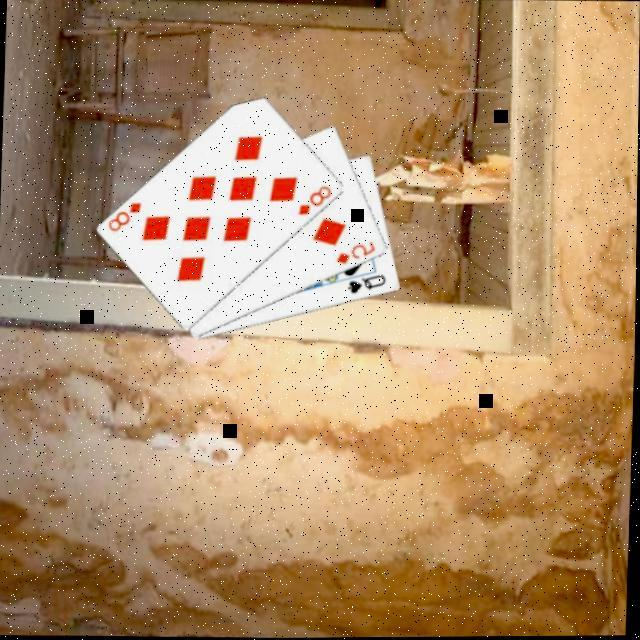5D: (335, 239, 379, 269)
8D: (295, 183, 336, 220), (105, 200, 146, 237)
QS: (345, 272, 390, 300)
